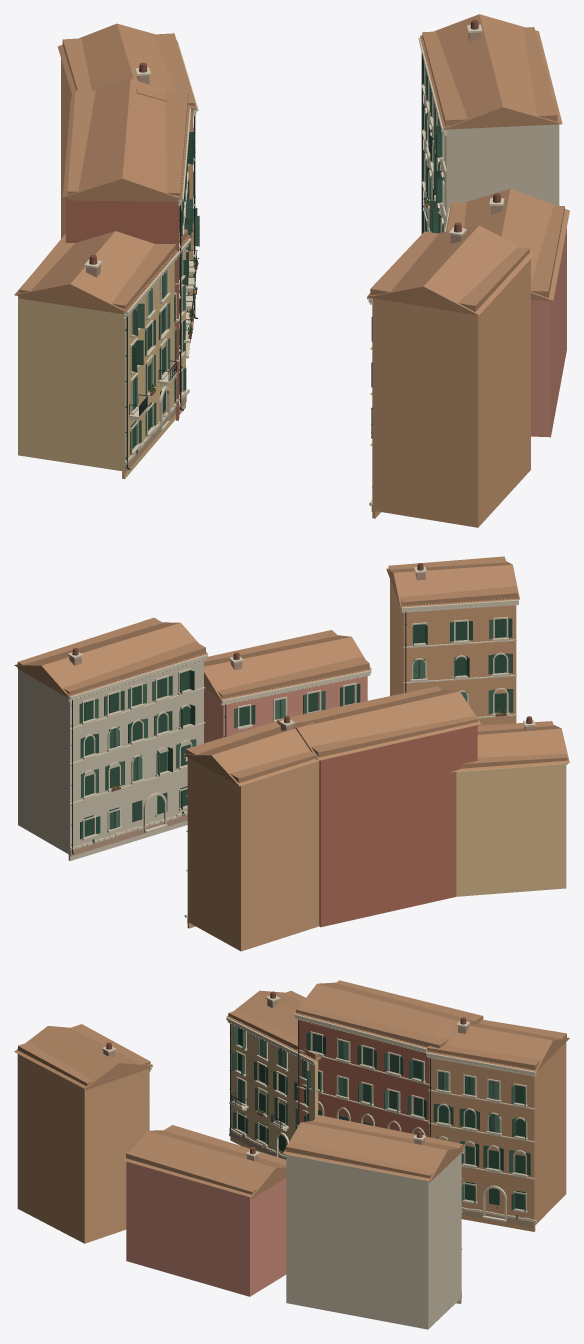
File: canal-06.glb
3 views of the same model, one above another, from view 1: azimuth 30°, elevation 25°; view 2: azimuth 150°, elevation 25°; view 3: azimuth 270°, elevation 25° (orthographic). The views are drawn at different scales.
Parts seen in each view (by area): view 1: Main elevations / kit:roof, Distant elevations / kit:walls:0, Distant elevations / kit:roof, Distant elevations / kit:walls:2, Main elevations / kit:walls:0, Main elevations / kit:stone, Main elevations / kit:walls:3, Main elevations / kit:walls:2, Main elevations / kit:greenDark, Main elevations / kit:walls:4, Distant elevations / kit:walls:3, Main elevations / kit:green (+8 smaller); view 2: Main elevations / kit:roof, Main elevations / kit:walls:4, Distant elevations / kit:walls:0, Main elevations / kit:walls:0, Main elevations / kit:walls:2, Distant elevations / kit:roof, Main elevations / kit:walls:3, Distant elevations / kit:walls:3, Main elevations / kit:stone, Distant elevations / kit:greenDark, Main elevations / kit:green, Distant elevations / kit:walls:1 (+4 smaller); view 3: Main elevations / kit:walls:3, Main elevations / kit:roof, Main elevations / kit:walls:0, Distant elevations / kit:walls:0, Main elevations / kit:walls:1, Distant elevations / kit:roof, Main elevations / kit:stone, Distant elevations / kit:walls:4, Distant elevations / kit:greenDark, Distant elevations / kit:walls:1, Distant elevations / kit:walls:3, Distant elevations / kit:walls:2 (+7 smaller).
Part boxes in pixels (left/top/right/bottom): Main elevations / kit:roof: left=14, top=14, right=569, bottom=315; Distant elevations / kit:walls:0: left=189, top=112, right=463, bottom=525; Distant elevations / kit:roof: left=19, top=27, right=564, bottom=314; Distant elevations / kit:walls:2: left=40, top=249, right=185, bottom=471; Main elevations / kit:walls:0: left=61, top=58, right=530, bottom=527; Main elevations / kit:stone: left=84, top=24, right=504, bottom=505; Main elevations / kit:walls:3: left=424, top=95, right=559, bottom=232; Main elevations / kit:walls:2: left=18, top=281, right=185, bottom=479; Main elevations / kit:greenDark: left=132, top=58, right=443, bottom=444; Main elevations / kit:walls:4: left=65, top=197, right=179, bottom=420; Distant elevations / kit:walls:3: left=425, top=100, right=555, bottom=228; Main elevations / kit:green: left=130, top=69, right=443, bottom=454; Main elevations / kit:roof: left=14, top=561, right=569, bottom=786; Main elevations / kit:walls:4: left=319, top=725, right=477, bottom=927; Distant elevations / kit:walls:0: left=187, top=580, right=516, bottom=949; Main elevations / kit:walls:0: left=187, top=579, right=508, bottom=951; Main elevations / kit:walls:2: left=456, top=763, right=566, bottom=896; Distant elevations / kit:roof: left=17, top=556, right=567, bottom=783; Main elevations / kit:walls:3: left=18, top=661, right=203, bottom=860; Distant elevations / kit:walls:3: left=34, top=663, right=200, bottom=853; Main elevations / kit:stone: left=67, top=566, right=535, bottom=917; Distant elevations / kit:greenDark: left=84, top=618, right=506, bottom=836; Main elevations / kit:green: left=80, top=619, right=513, bottom=828; Distant elevations / kit:walls:1: left=204, top=676, right=367, bottom=743; Main elevations / kit:walls:3: left=286, top=1153, right=461, bottom=1329; Main elevations / kit:roof: left=14, top=982, right=569, bottom=1197; Main elevations / kit:walls:0: left=17, top=1042, right=566, bottom=1243; Distant elevations / kit:walls:0: left=86, top=1043, right=565, bottom=1242; Main elevations / kit:walls:1: left=126, top=1161, right=251, bottom=1296; Distant elevations / kit:roof: left=17, top=980, right=566, bottom=1198; Main elevations / kit:stone: left=102, top=996, right=536, bottom=1291; Distant elevations / kit:walls:4: left=298, top=1020, right=429, bottom=1136; Distant elevations / kit:greenDark: left=238, top=1027, right=525, bottom=1209; Distant elevations / kit:walls:1: left=251, top=1178, right=286, bottom=1295; Distant elevations / kit:walls:3: left=438, top=1153, right=461, bottom=1319; Distant elevations / kit:walls:2: left=231, top=1024, right=318, bottom=1155.
Bounding box in the file's own units: 50.76 × 19.99 × 54.17.
